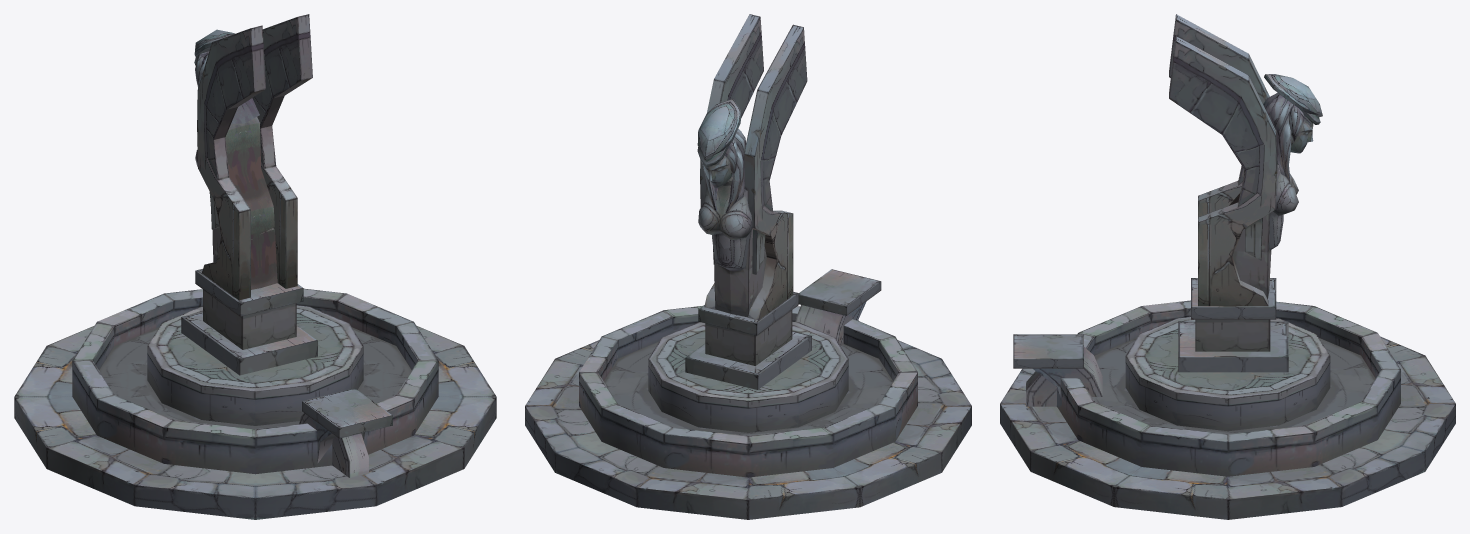
File: 2_CZ_DiaoXiang_01_d.FBX
3 renders of one model, left to right at view 1: azimuth 30°, elevation 25°; view 2: azimuth 150°, elevation 25°; view 3: azimuth 270°, elevation 25°, orthographic. The views are drawn at different scales.
Visible parts, largest first — view 1: 2_CZ_PenQuan_01, 2_CZ_DiaoXiang_01, 2_CZ_DiaoXiang_03, 2_CZ_DiaoXiang_02, 2_CZ_PenQuan_02; view 2: 2_CZ_PenQuan_01, 2_CZ_DiaoXiang_01, 2_CZ_DiaoXiang_03, 2_CZ_DiaoXiang_02, 2_CZ_PenQuan_02; view 3: 2_CZ_PenQuan_01, 2_CZ_DiaoXiang_01, 2_CZ_DiaoXiang_03, 2_CZ_DiaoXiang_02, 2_CZ_PenQuan_02.
Part boxes in pixels (x1=…): 2_CZ_PenQuan_01: x1=14, y1=288, x2=496, y2=519; 2_CZ_DiaoXiang_01: x1=194, y1=14, x2=312, y2=242; 2_CZ_DiaoXiang_03: x1=181, y1=269, x2=317, y2=375; 2_CZ_DiaoXiang_02: x1=202, y1=205, x2=297, y2=300; 2_CZ_PenQuan_02: x1=299, y1=388, x2=392, y2=477; 2_CZ_PenQuan_01: x1=525, y1=306, x2=971, y2=519; 2_CZ_DiaoXiang_01: x1=697, y1=14, x2=807, y2=259; 2_CZ_DiaoXiang_03: x1=685, y1=292, x2=811, y2=389; 2_CZ_DiaoXiang_02: x1=704, y1=238, x2=793, y2=320; 2_CZ_PenQuan_02: x1=795, y1=269, x2=881, y2=345; 2_CZ_PenQuan_01: x1=1000, y1=300, x2=1455, y2=519; 2_CZ_DiaoXiang_01: x1=1169, y1=14, x2=1322, y2=251; 2_CZ_DiaoXiang_03: x1=1178, y1=278, x2=1288, y2=372; 2_CZ_DiaoXiang_02: x1=1198, y1=221, x2=1283, y2=306; 2_CZ_PenQuan_02: x1=1013, y1=334, x2=1102, y2=406.
Bounding box in the file's own units: 967 × 930 × 967.
